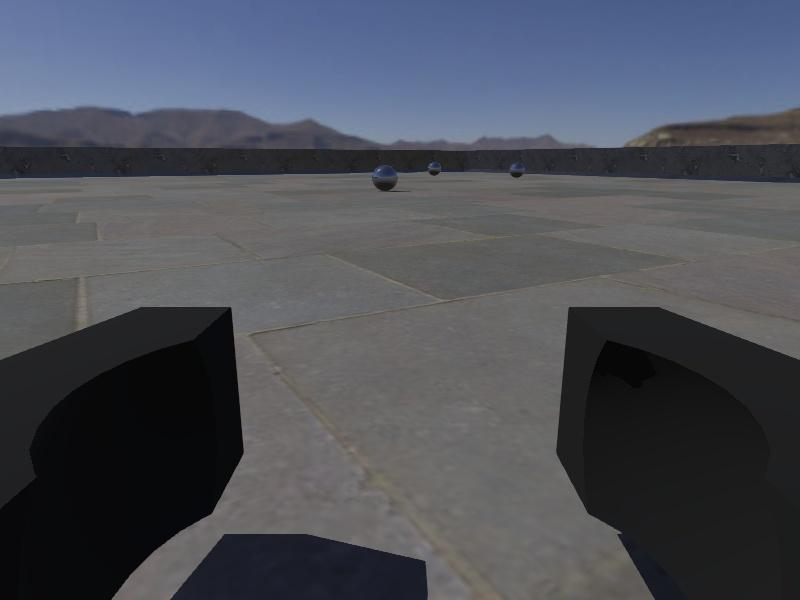steel ball: (371, 163, 399, 192), (508, 161, 525, 178), (427, 160, 442, 176)
